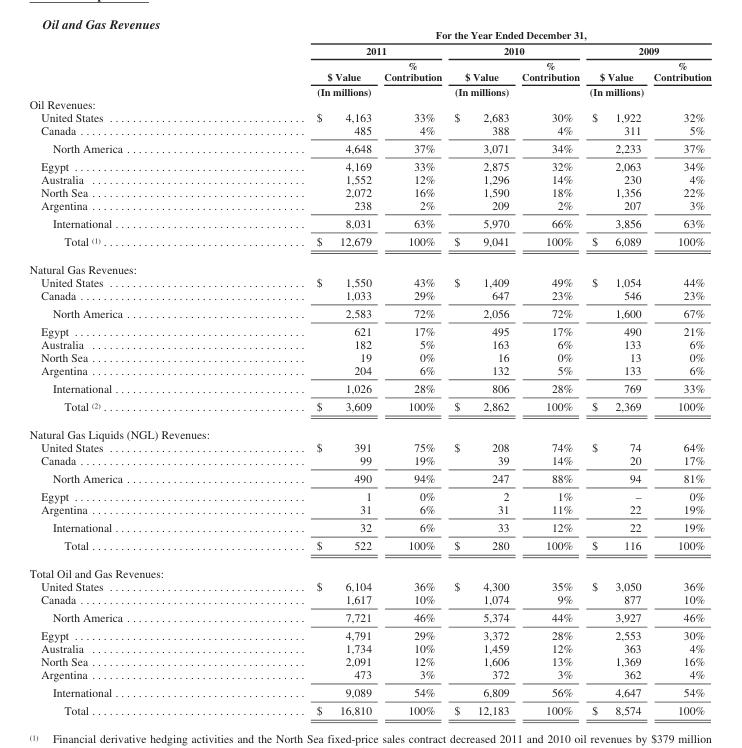table: (28, 28, 710, 716)
table column: (28, 28, 218, 716), (218, 28, 377, 716), (377, 28, 447, 716), (514, 28, 583, 716), (447, 28, 514, 716), (583, 28, 647, 716), (647, 28, 710, 716)
table column header: (28, 28, 710, 97)
table projected row header: (28, 255, 710, 275), (28, 420, 710, 440), (28, 559, 710, 579), (28, 97, 710, 110)
table row: (28, 58, 710, 97), (28, 232, 710, 255), (28, 397, 710, 420), (28, 536, 710, 559), (28, 255, 710, 275), (28, 420, 710, 440), (28, 559, 710, 579), (28, 139, 710, 157), (28, 214, 710, 232), (28, 304, 710, 322), (28, 379, 710, 397), (28, 469, 710, 487), (28, 518, 710, 536), (28, 608, 710, 626), (28, 683, 710, 701), (28, 42, 710, 58), (28, 123, 710, 139), (28, 198, 710, 214), (28, 288, 710, 304), (28, 363, 710, 379), (28, 453, 710, 469), (28, 502, 710, 518), (28, 592, 710, 608), (28, 667, 710, 683), (28, 157, 710, 172), (28, 322, 710, 337), (28, 487, 710, 502), (28, 626, 710, 641), (28, 701, 710, 716), (28, 28, 710, 42), (28, 97, 710, 110), (28, 110, 710, 123), (28, 172, 710, 185), (28, 185, 710, 198), (28, 275, 710, 288), (28, 337, 710, 350), (28, 350, 710, 363), (28, 440, 710, 453), (28, 579, 710, 592), (28, 641, 710, 654), (28, 654, 710, 667)
table spanning cell: (218, 28, 710, 42), (218, 42, 447, 58), (447, 42, 583, 58), (583, 42, 710, 58)
